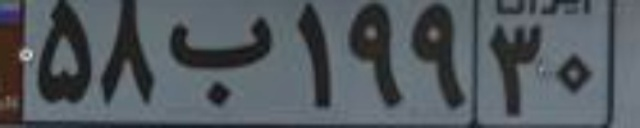0: (553, 53, 595, 95)
1: (292, 1, 332, 108)
3: (487, 22, 544, 117)
5: (32, 0, 91, 104)
8: (100, 1, 153, 105)
9: (344, 2, 403, 107), (409, 2, 466, 106)
be: (168, 13, 273, 105)
